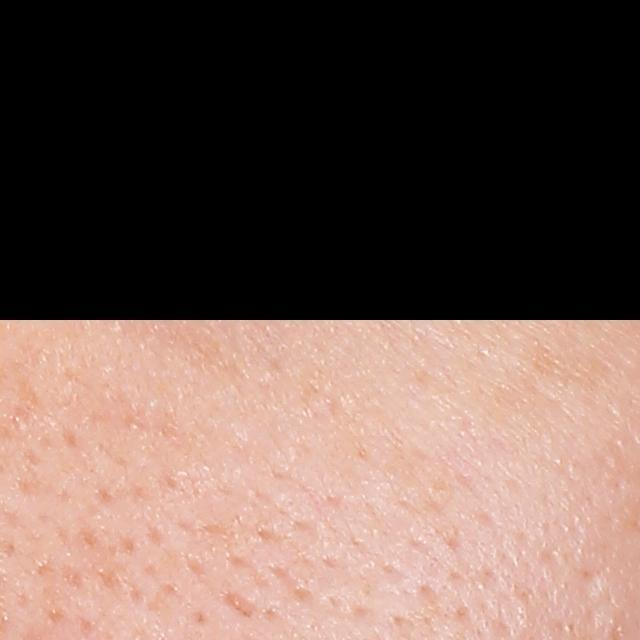atrophic_scar: (219, 588, 266, 622)
